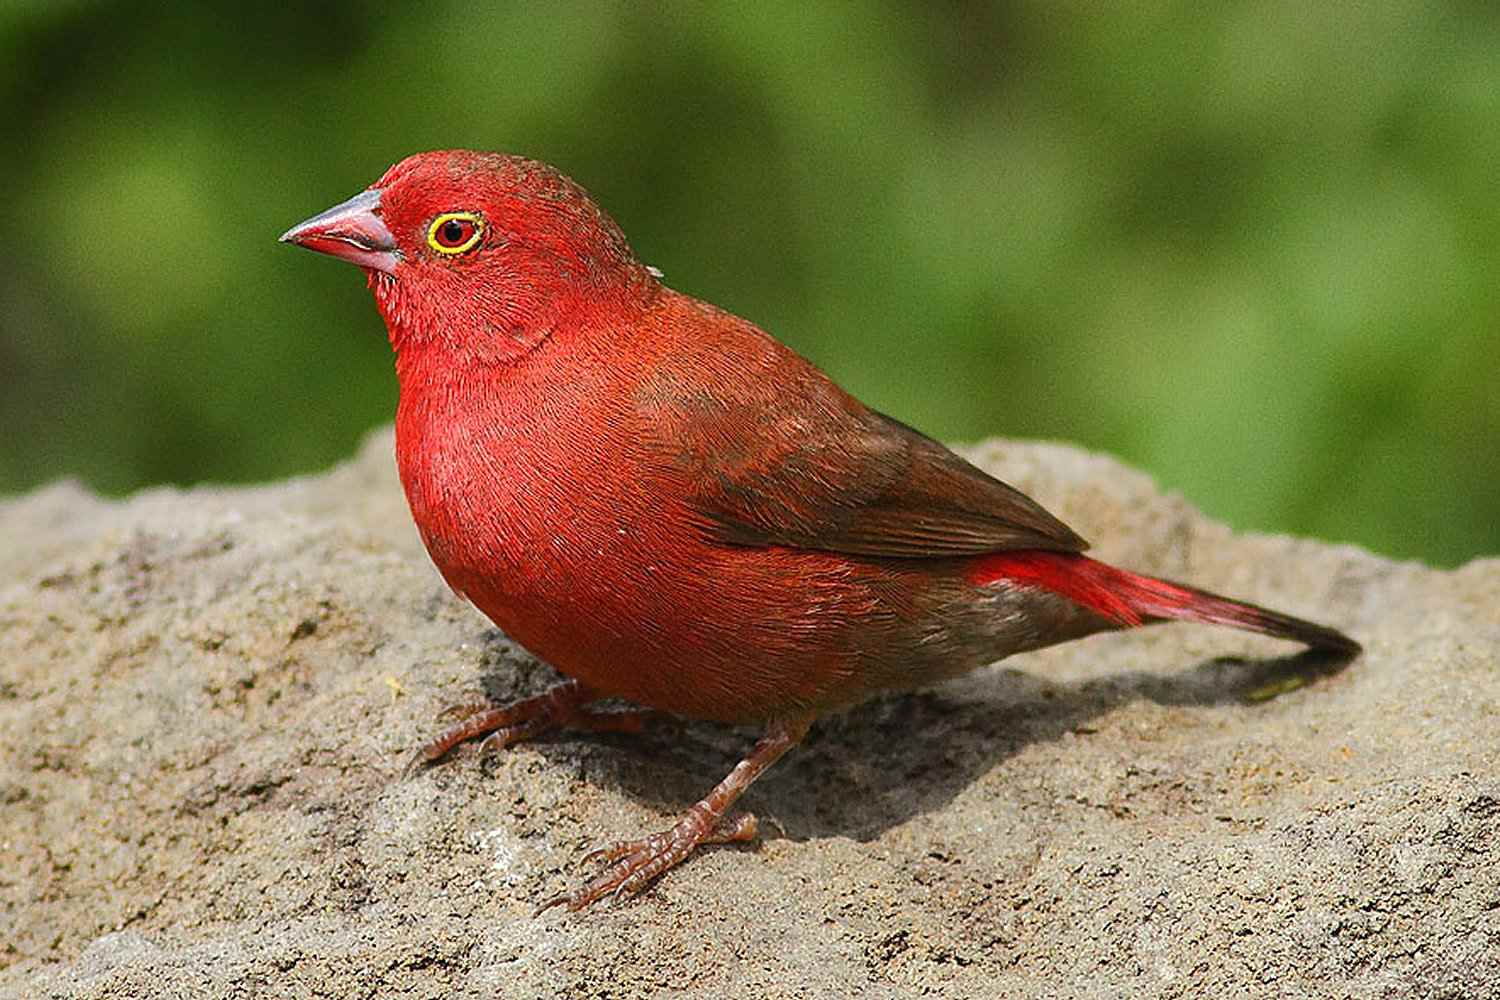bird: (225, 121, 1382, 933)
